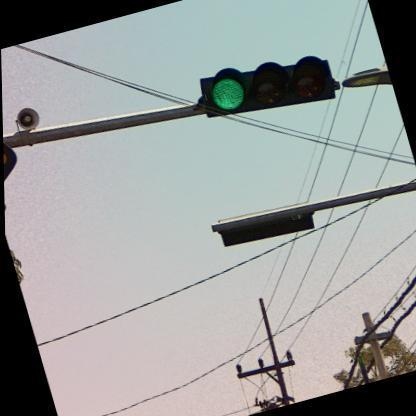green: (189, 41, 340, 137)
